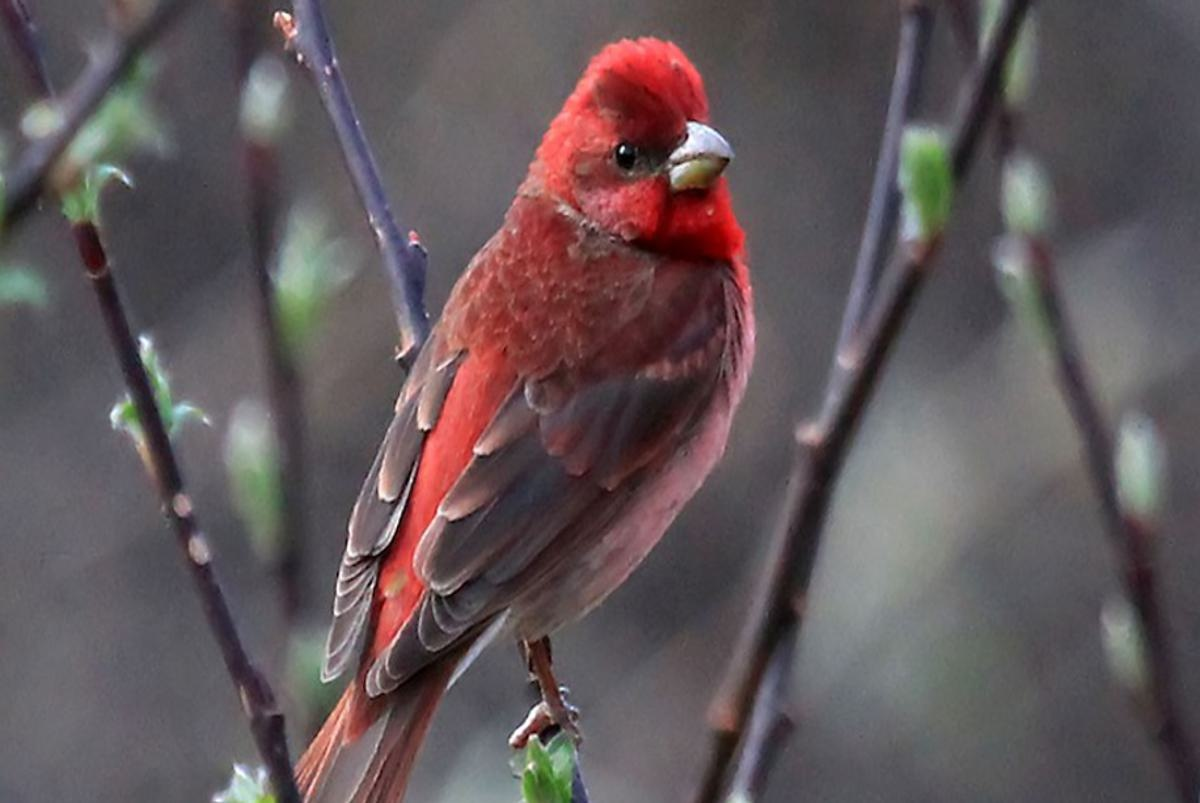rosefinch: (313, 49, 756, 688)
